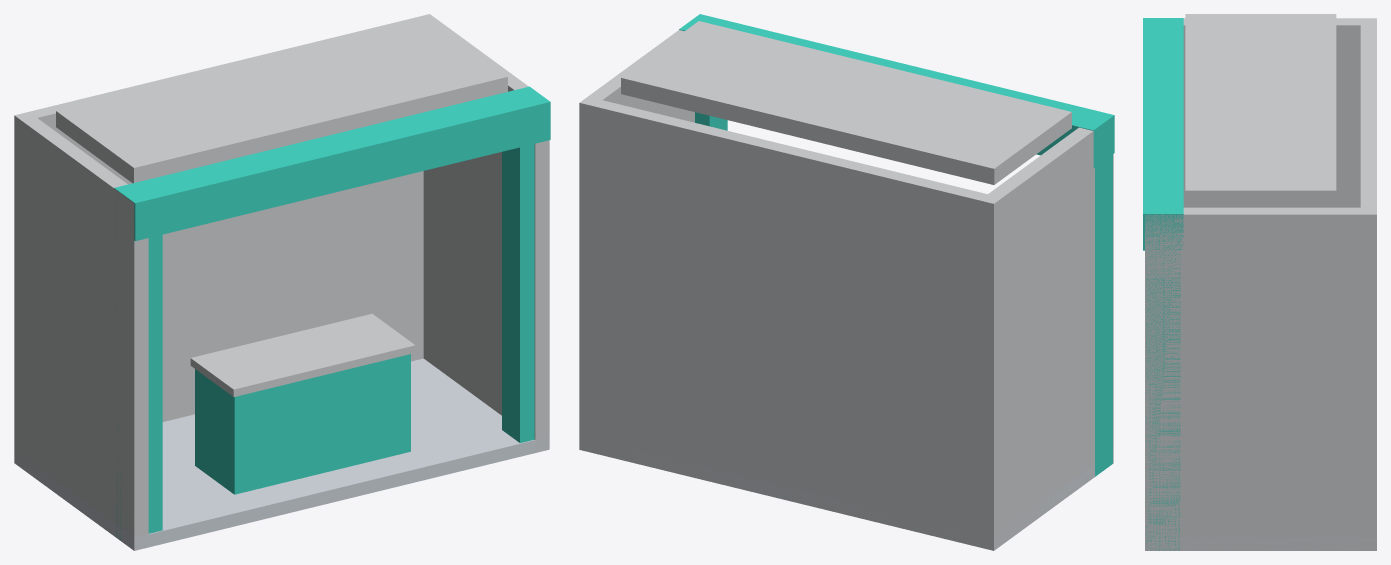
3 renders of one model, left to right at view 1: azimuth 30°, elevation 25°; view 2: azimuth 150°, elevation 25°; view 3: azimuth 270°, elevation 25°, orthographic. The views are drawn at different scales.
Parts seen in each view (by area): view 1: Exhibition Booth Concept; view 2: Exhibition Booth Concept; view 3: Exhibition Booth Concept.
Part boxes in pixels (left/top/right/bottom): Exhibition Booth Concept: left=14, top=14, right=550, bottom=550; Exhibition Booth Concept: left=579, top=14, right=1114, bottom=550; Exhibition Booth Concept: left=1143, top=14, right=1376, bottom=550.
Bounding box in the file's own units: 4 × 3.34 × 2.01.
